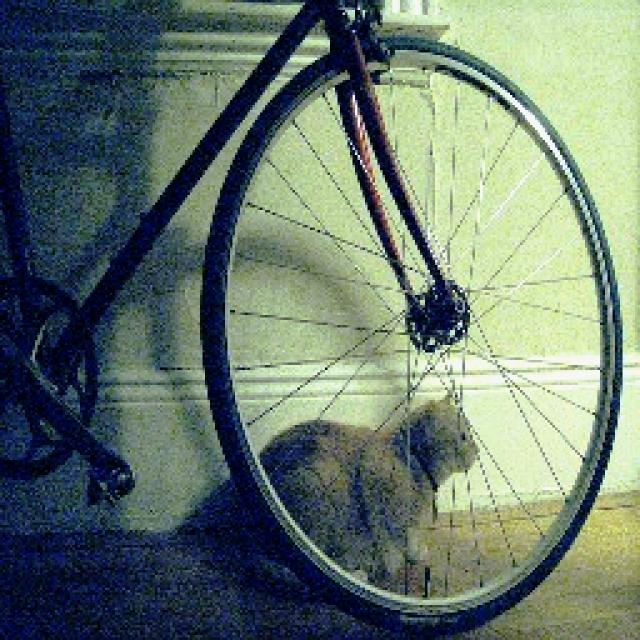cat: (208, 352, 500, 621)
